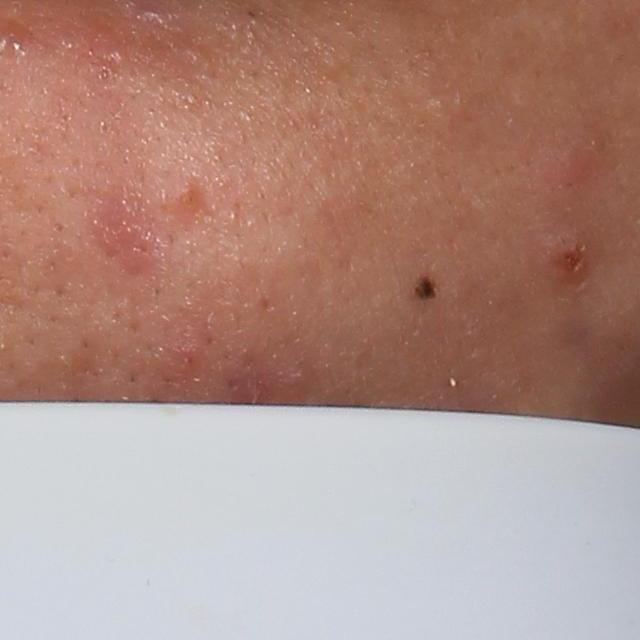nevus: (414, 277, 437, 298)
papule: (105, 210, 158, 267), (545, 138, 593, 192), (172, 181, 200, 218)
